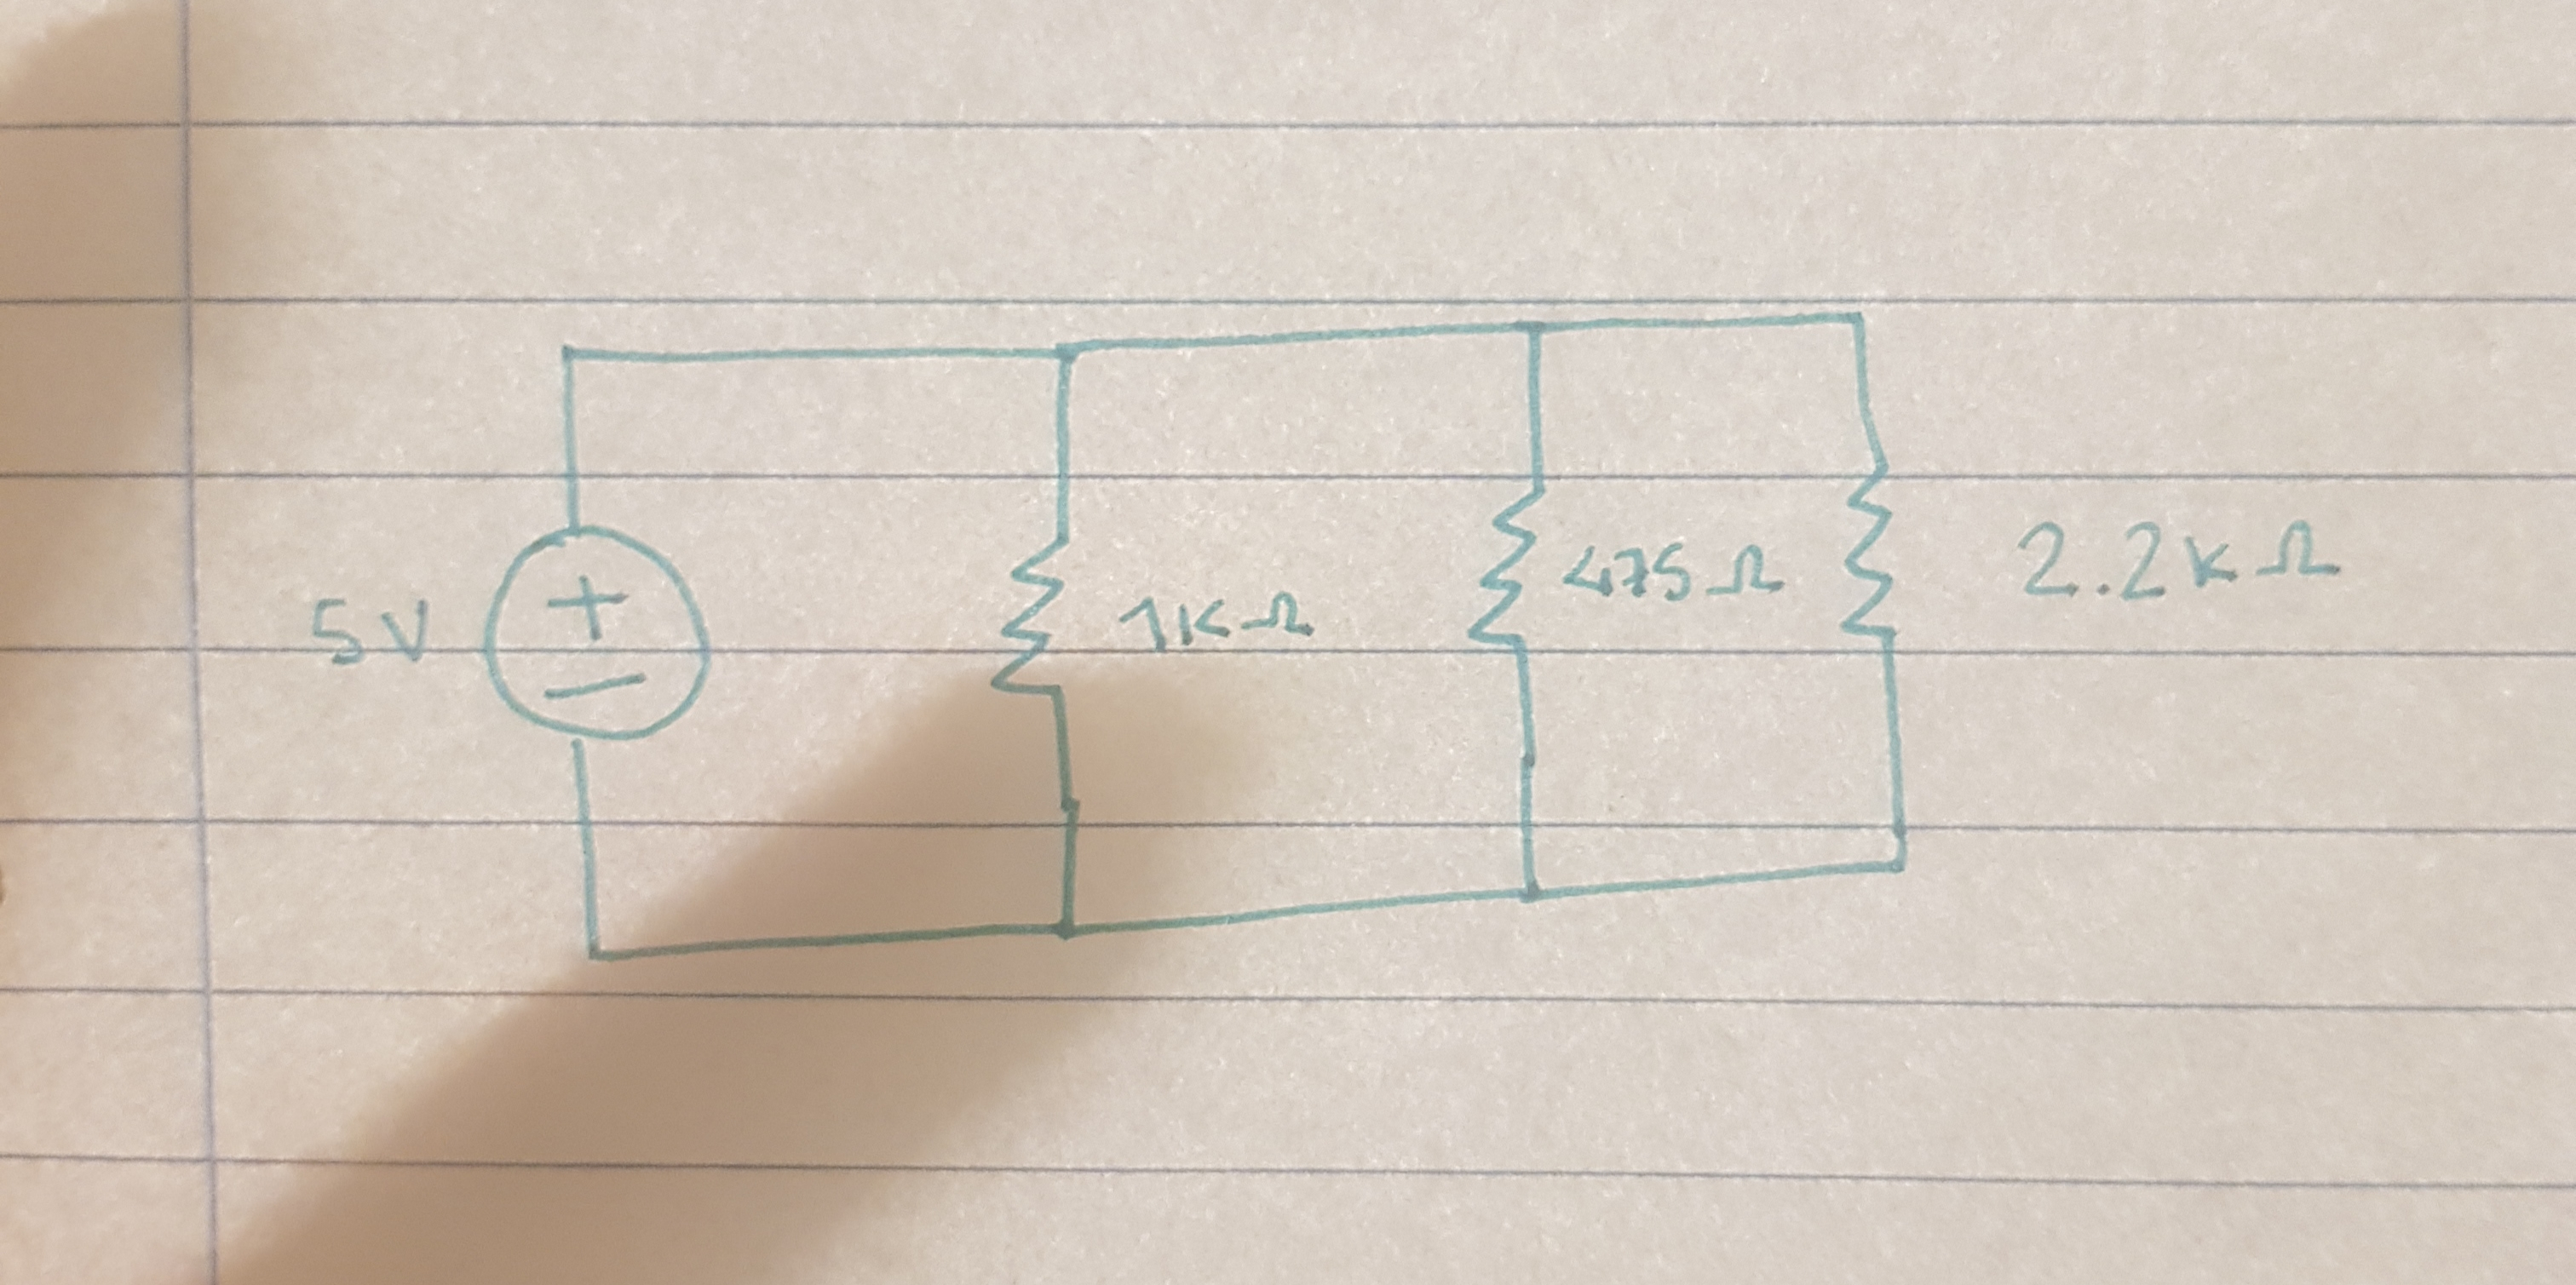junction: (1498, 866, 1561, 922), (540, 325, 596, 383), (1040, 325, 1094, 376), (1871, 836, 1922, 889), (1832, 291, 1879, 343), (568, 923, 616, 976), (1040, 904, 1089, 953), (1510, 302, 1557, 353)
resistor: (977, 524, 1097, 715), (1824, 435, 1919, 670), (1462, 462, 1561, 674)
text: (1999, 498, 2348, 616), (1541, 527, 1802, 603), (1099, 578, 1326, 656), (292, 578, 448, 689)
voltage.dc: (475, 516, 723, 753)
